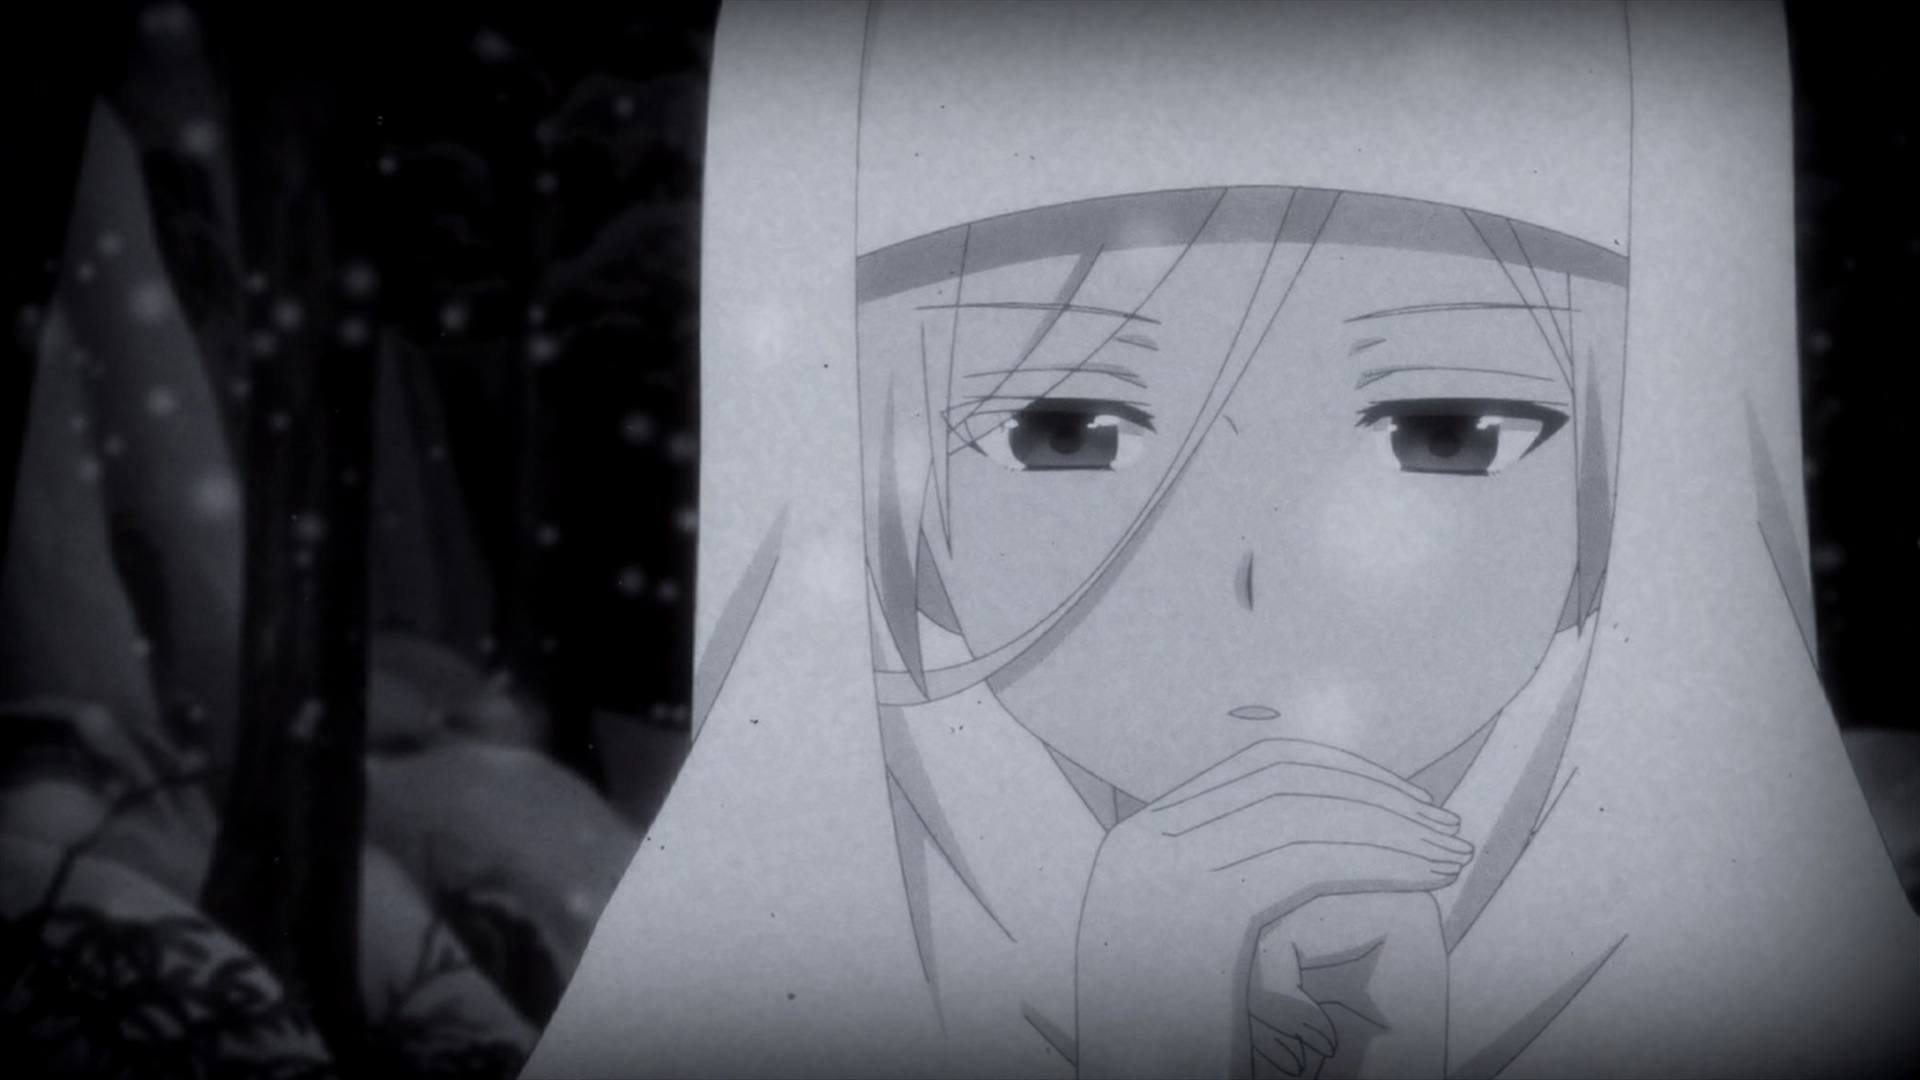八百比丘尼: (524, 1, 1920, 1080)
